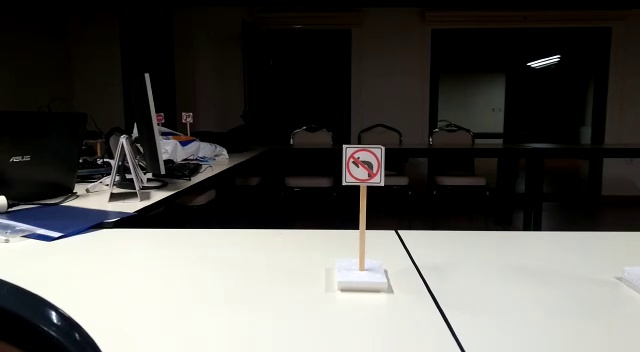sola_donulmez: (342, 143, 385, 184)
